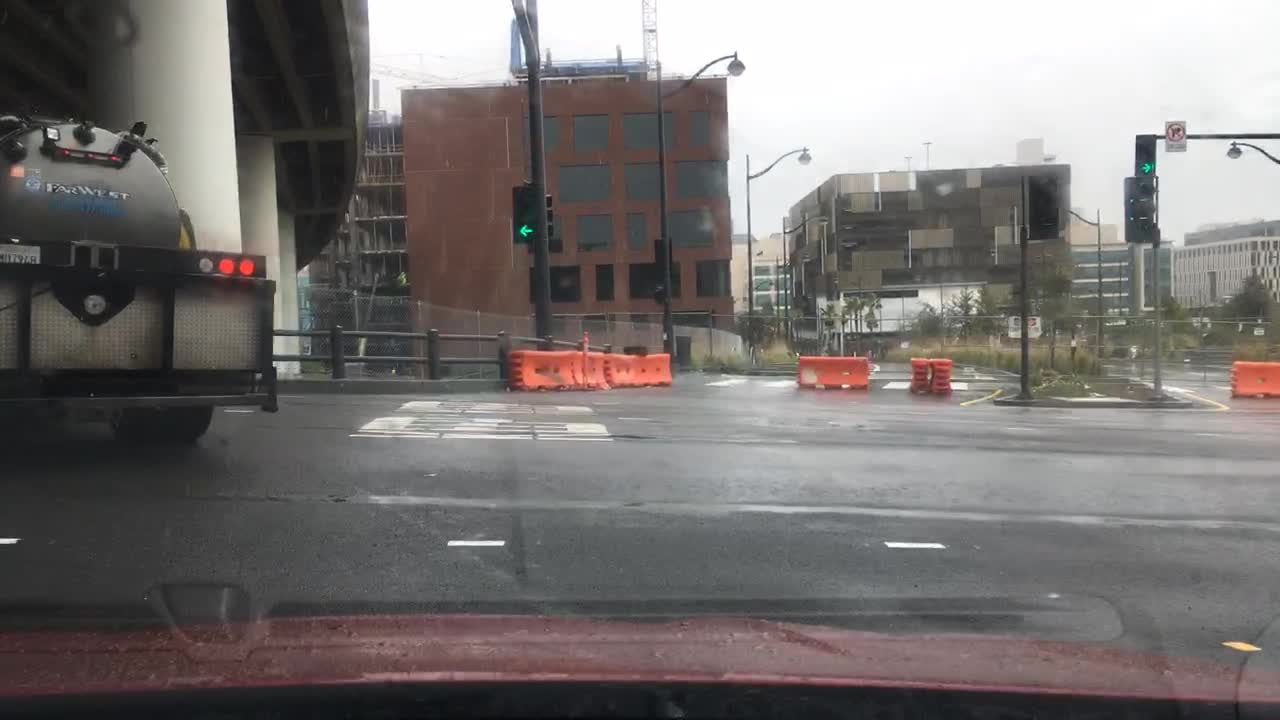car: (842, 331, 885, 355)
traffic light: (1122, 176, 1158, 243), (1027, 172, 1061, 239), (512, 185, 537, 239), (1135, 140, 1156, 177), (1009, 314, 1042, 336), (543, 192, 557, 235)
traffic sign: (1164, 118, 1184, 148)
truck: (0, 110, 278, 440)
